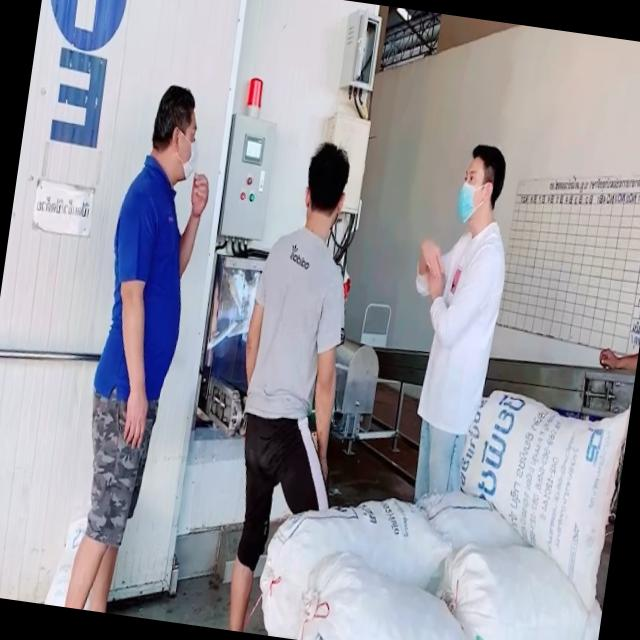ice-bag: (239, 447, 453, 634), (447, 383, 633, 564), (432, 526, 612, 640), (292, 541, 488, 640), (414, 473, 530, 560)
